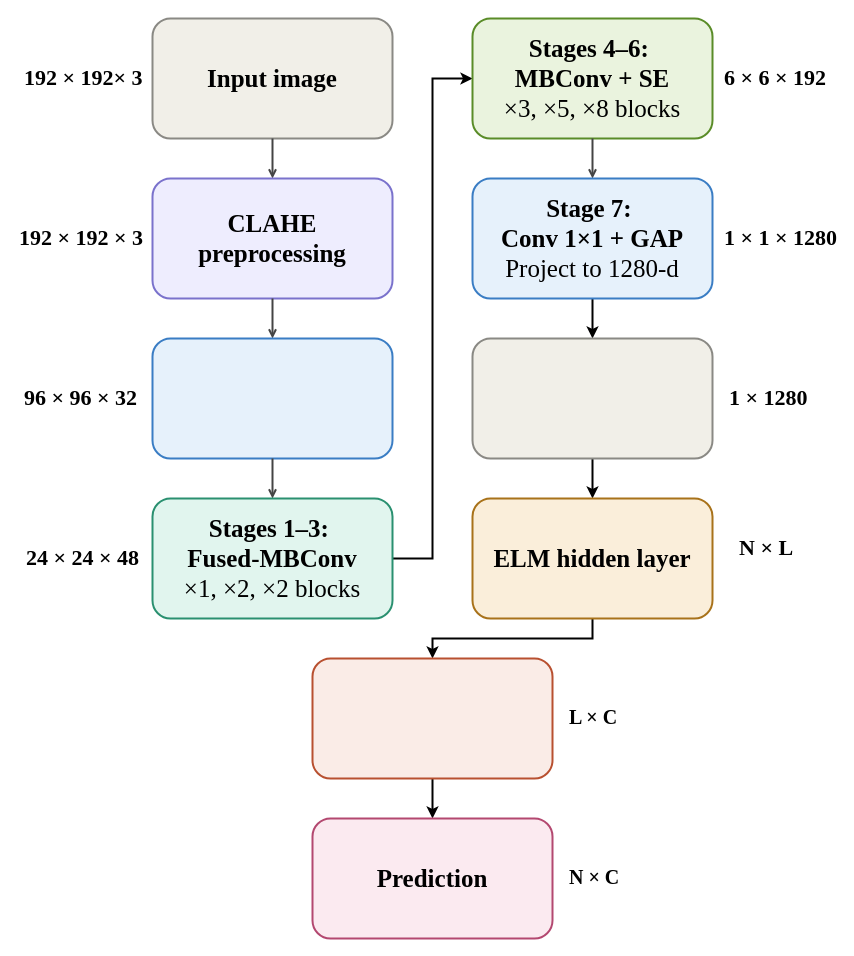
Some shapes in this 854 by 956 pixel diagram are drawn without their labels. Here are the shapes that lost their labels. From the top down, the centre of each, then its label:
At pixel 272 398: "Stage 0: Stem Conv 3×3 ×1, stride 2, 32 ch".
At pixel 592 398: "StandardScaler".
At pixel 432 718: "Bilevel optimization".
